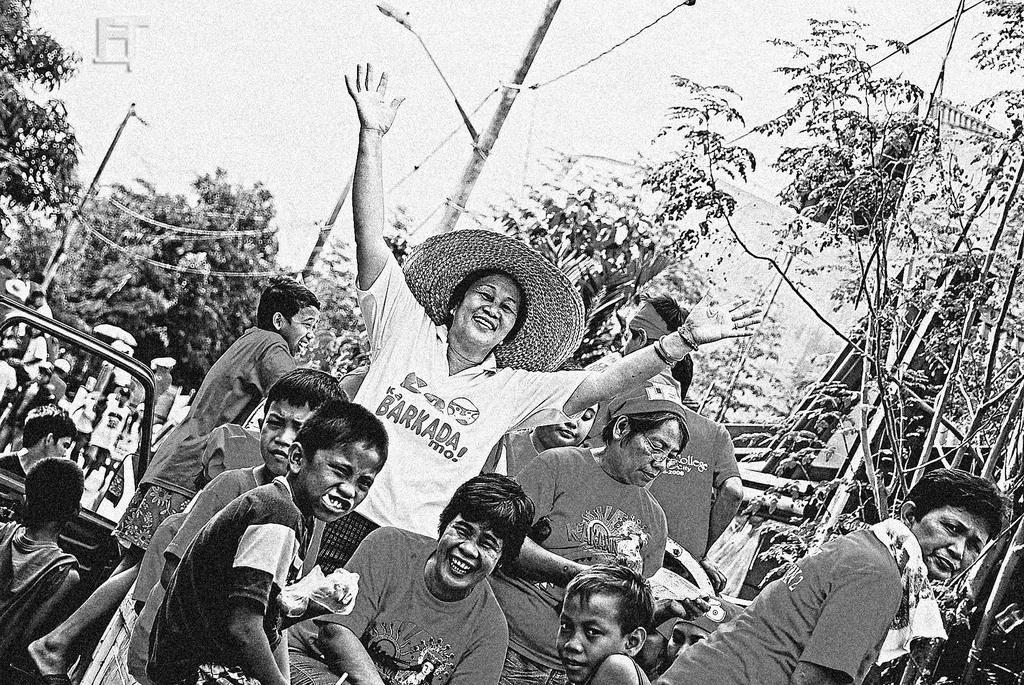Hat: (401, 230, 583, 370), (602, 378, 686, 439)
